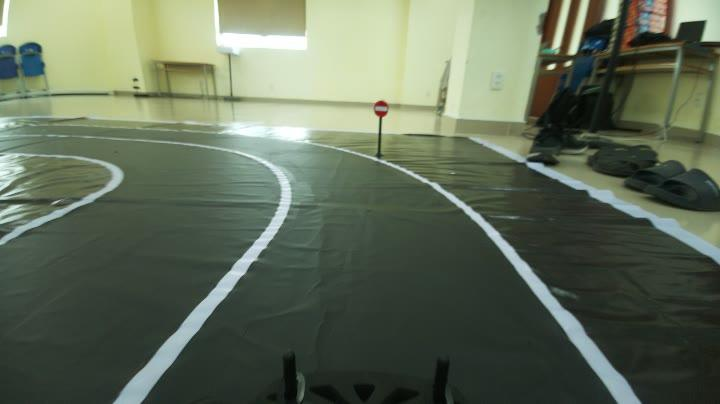no_entry: (360, 92, 398, 121)
